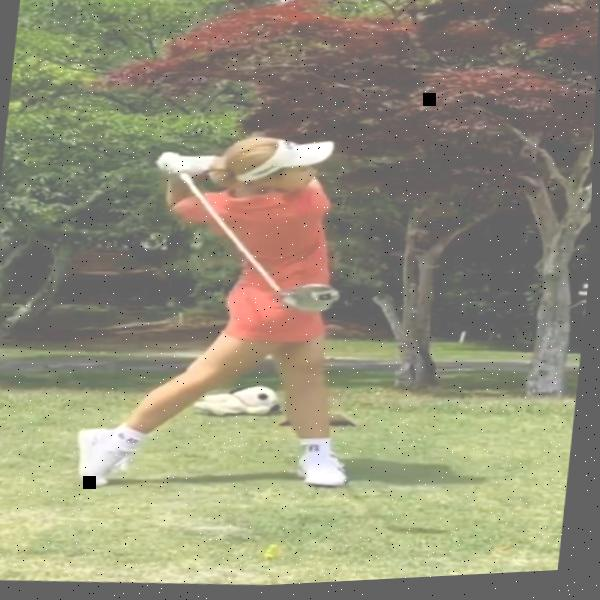ClubHead: (282, 284, 343, 321)
